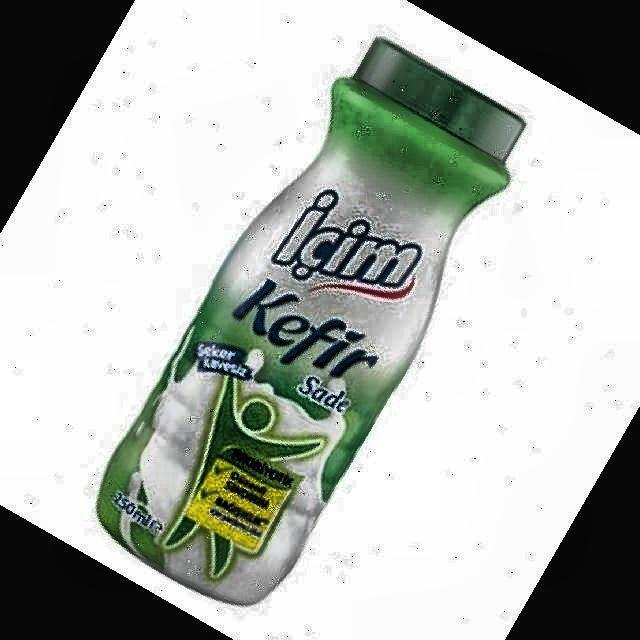plastic: (100, 39, 524, 603)
